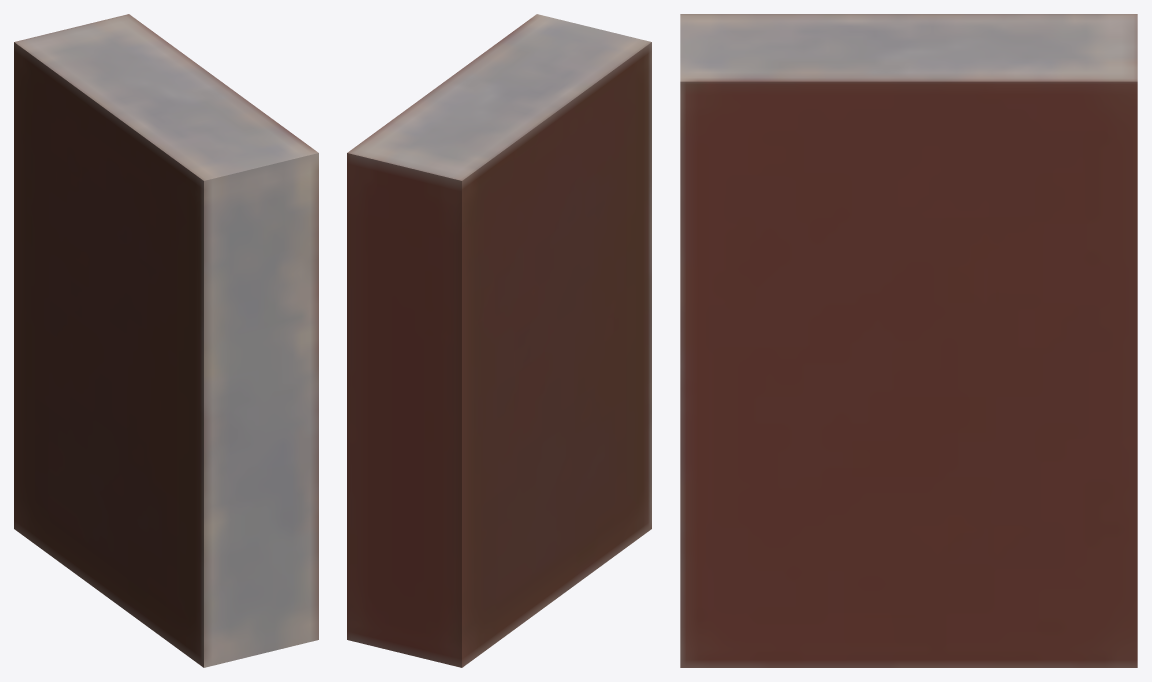
Rendered from Pfb_Indoors_Books__23.fbx.
3 views of the same model, side by side, from view 1: azimuth 30°, elevation 25°; view 2: azimuth 150°, elevation 25°; view 3: azimuth 270°, elevation 25° (orthographic). The views are drawn at different scales.
Parts seen in each view (by area): view 1: Mat_Indoors_Books_01_3; view 2: Mat_Indoors_Books_01_3; view 3: Mat_Indoors_Books_01_3.
Boxes of the visible parts, x1=… form: Mat_Indoors_Books_01_3: x1=14, y1=14, x2=318, y2=667; Mat_Indoors_Books_01_3: x1=347, y1=14, x2=651, y2=667; Mat_Indoors_Books_01_3: x1=680, y1=14, x2=1137, y2=667.
Size of the model in its own units: 0.0828 by 0.3351 by 0.2368.
1 material, 1 textured.
